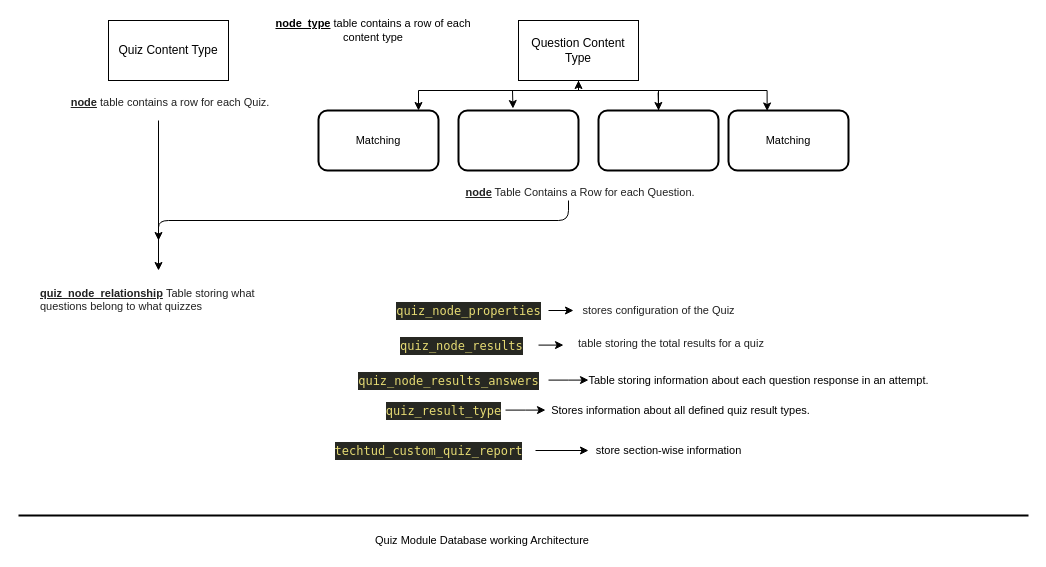
Some shapes in this 1046 by 567 pixel diagram are drawn without their labels. Here are the shapes that lost their labels. From the top down, the centre of each, then its label:
At (518,140): "Multiple choice question".
At (658,140): "Short answer question".
